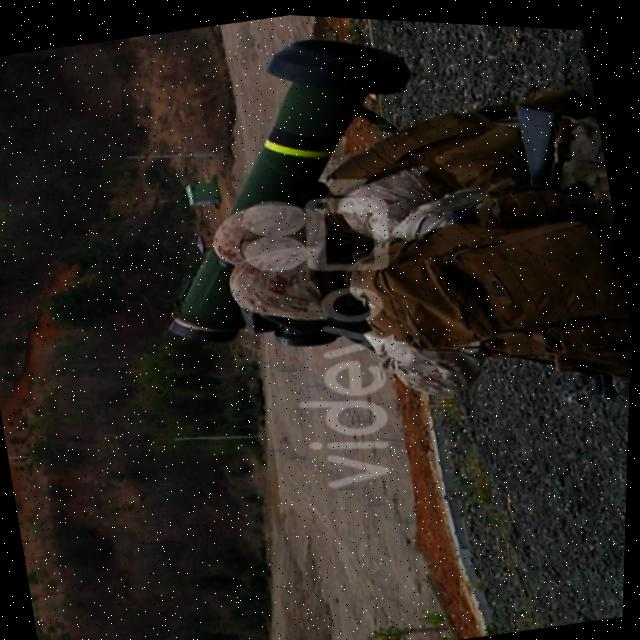rocket: (115, 5, 460, 376)
